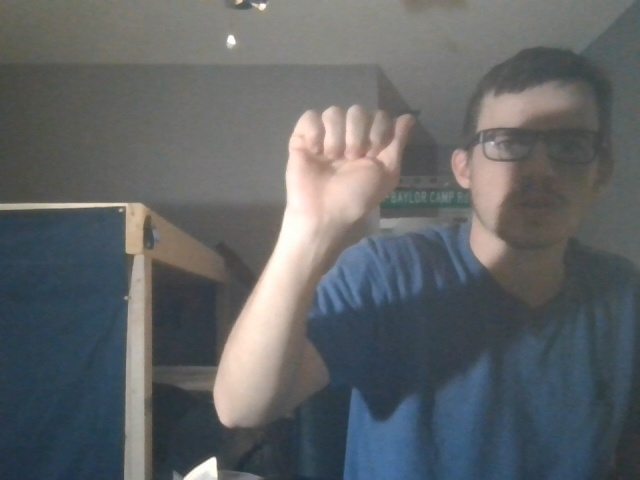A: (277, 102, 418, 229)
